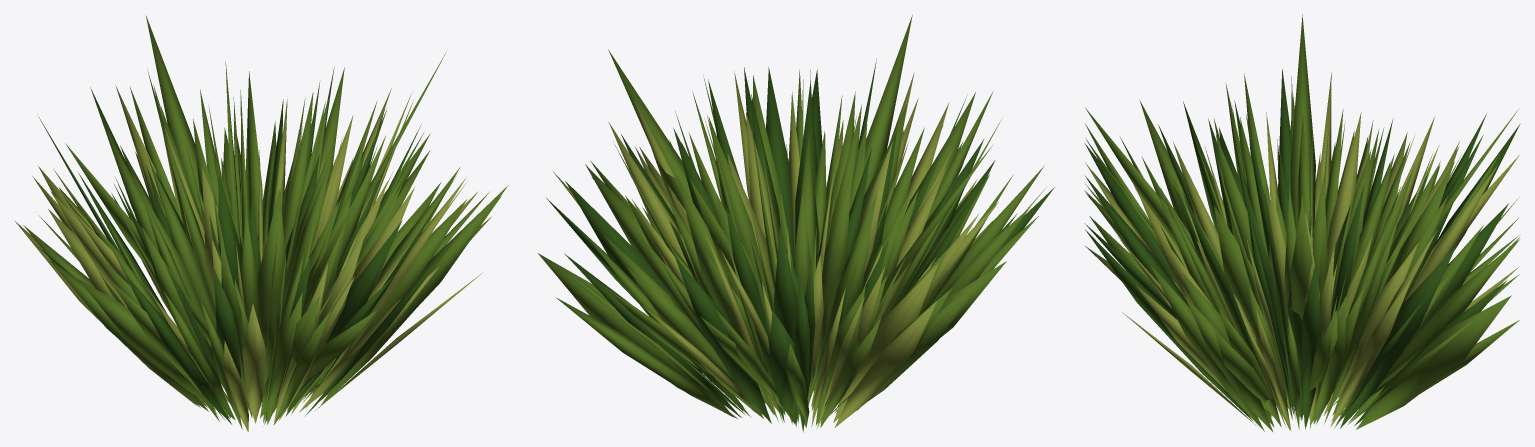
Rendered from MV_Grass_Tuft_Medium.fbx.
3 renders of one model, left to right at view 1: azimuth 30°, elevation 25°; view 2: azimuth 150°, elevation 25°; view 3: azimuth 270°, elevation 25°, orthographic. The views are drawn at different scales.
Visible parts, largest first — view 1: LOD0_Mesh, LOD1_Mesh, LOD2_Mesh; view 2: LOD2_Mesh, LOD0_Mesh, LOD1_Mesh; view 3: LOD0_Mesh, LOD2_Mesh, LOD1_Mesh.
Part boxes in pixels (x1,y1,x2,y2): LOD0_Mesh: (32,67,508,431); LOD1_Mesh: (23,109,466,424); LOD2_Mesh: (15,16,491,422); LOD2_Mesh: (538,15,1017,427); LOD0_Mesh: (553,58,1054,432); LOD1_Mesh: (546,70,1029,427); LOD0_Mesh: (1084,69,1520,432); LOD2_Mesh: (1085,14,1519,429); LOD1_Mesh: (1084,72,1519,429).
Size of the model in its own units: 0.48 by 0.3698 by 0.48.
